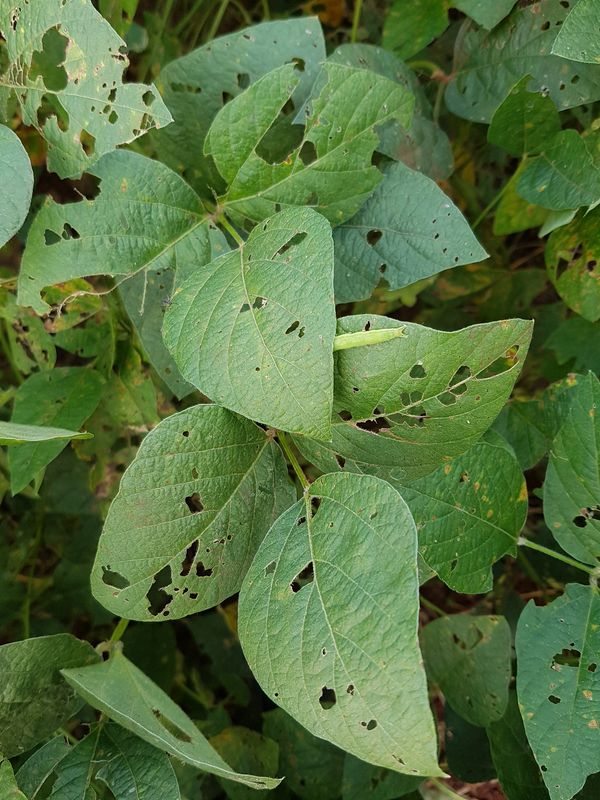Anticarsia_gemmatalis: (311, 317, 412, 367)
